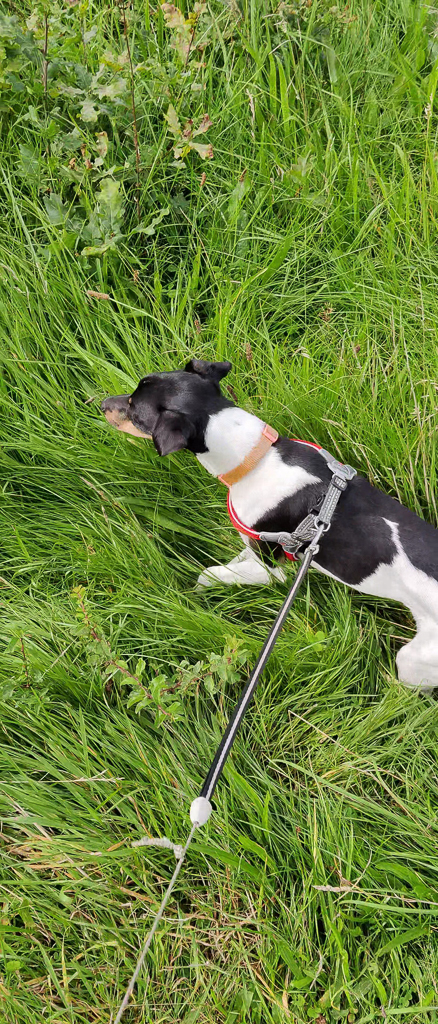Dog: (84, 346, 438, 709)
